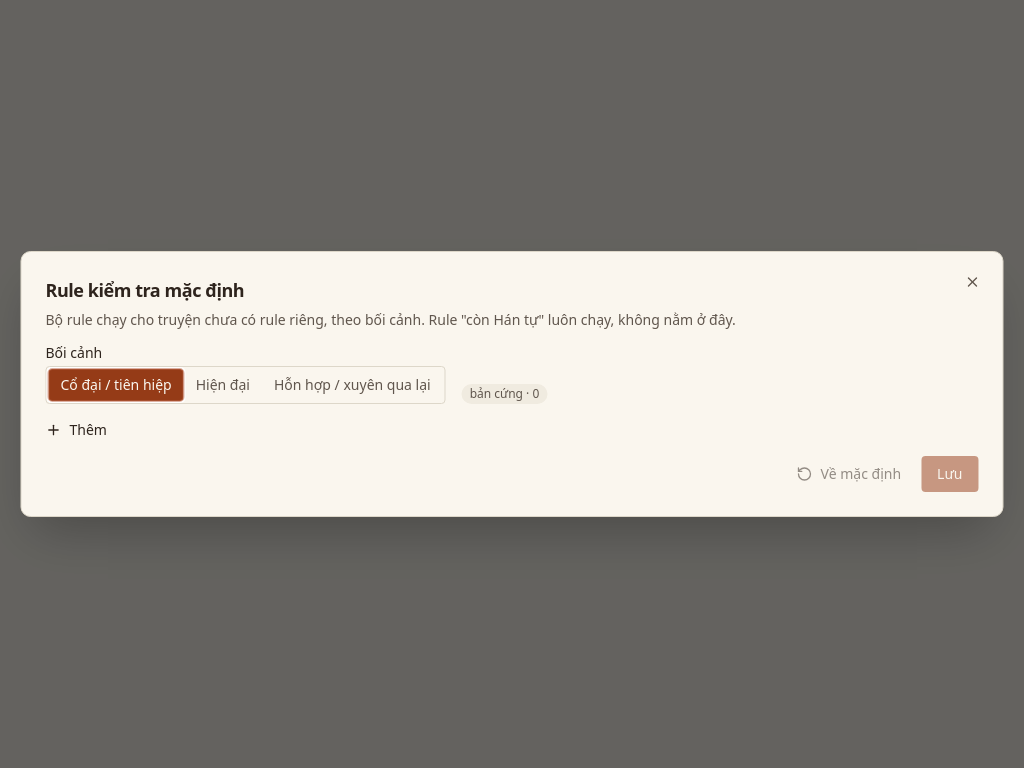
Scenario: BaseRulesDialog › đổi bối cảnh nạp lại; Về mặc định gọi base_reset
The image size is (1024, 768).
Expected: the text "bản cứng · 0" is shown, [462,384,547,404]
Click the radio button labelled "Hiện đại".
click(223, 385)  # box [184,369,262,401]
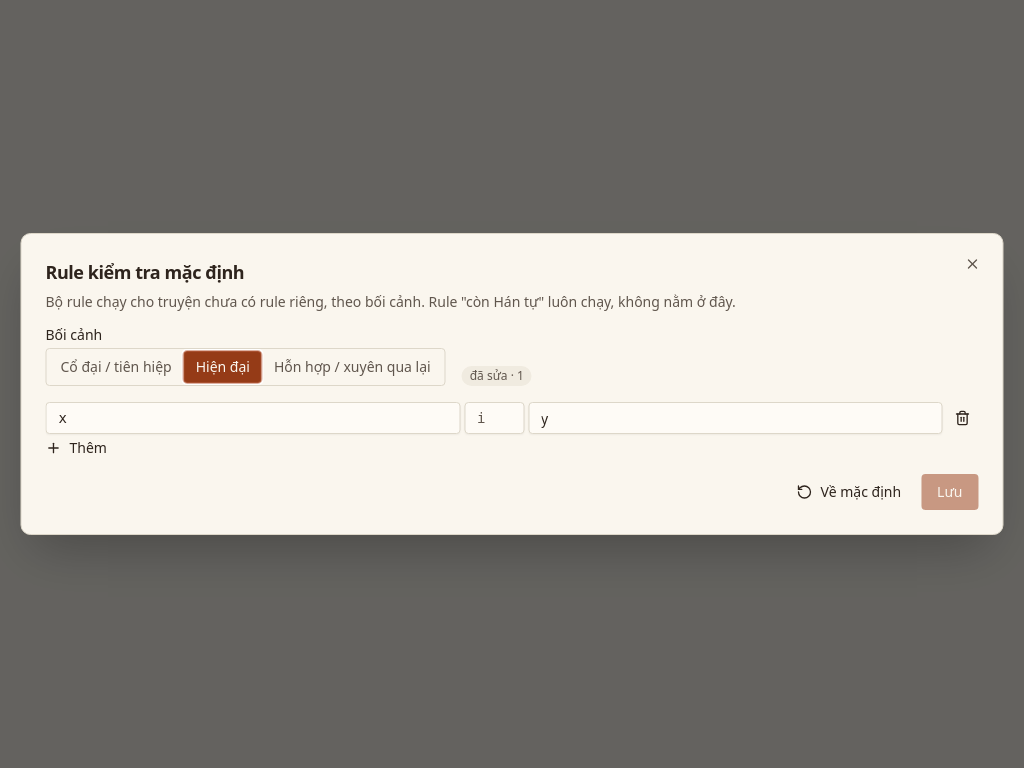
Result: the field named "Regex 1" holds "x" at [46,402,460,434]
Click the button "Về mặc định".
click(849, 492)  # box [785,474,913,510]
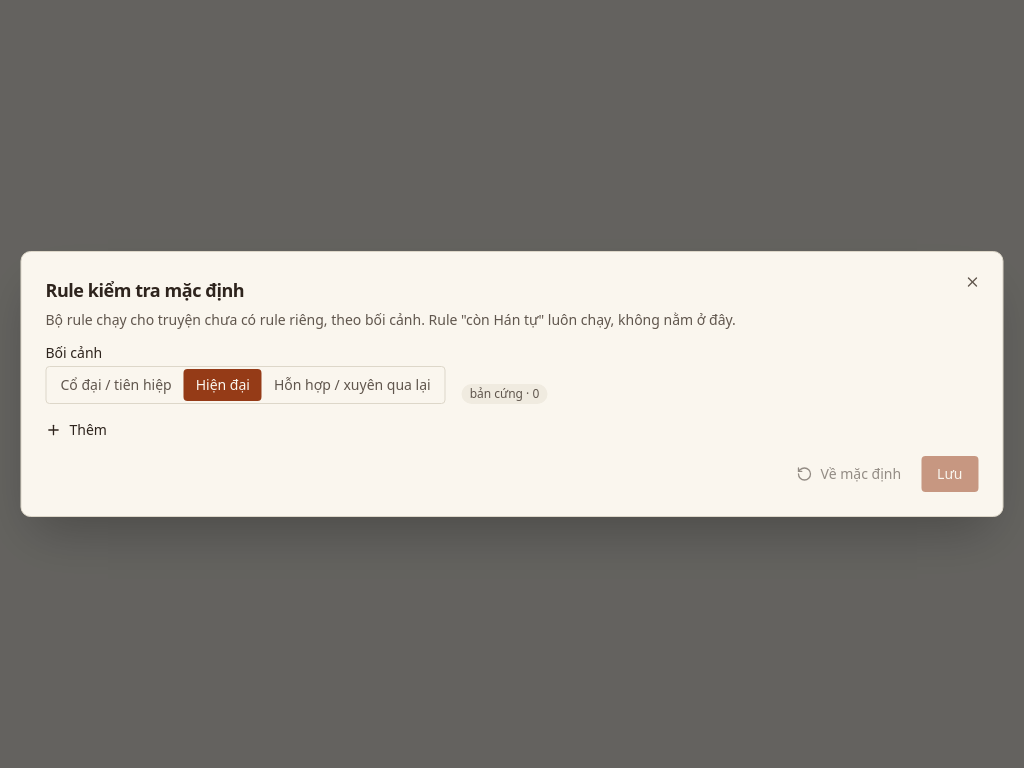
Result: the text "bản cứng · 0" is shown at [462,384,547,404]
